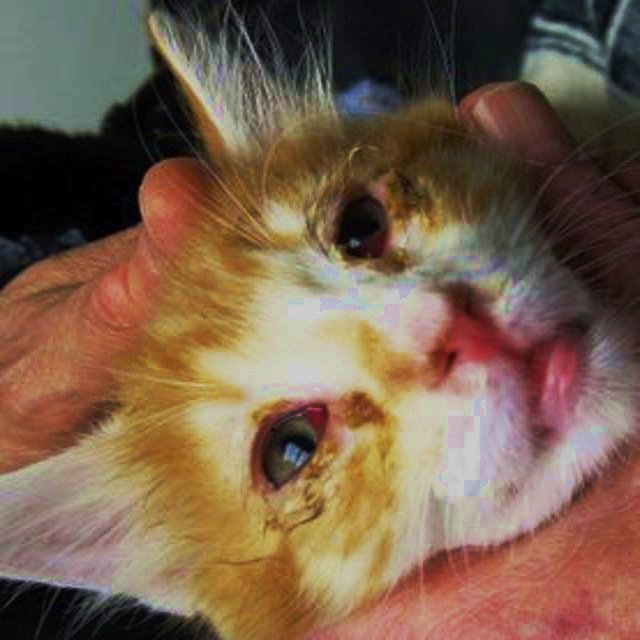eye_infection: (254, 402, 343, 497), (330, 186, 397, 263)
